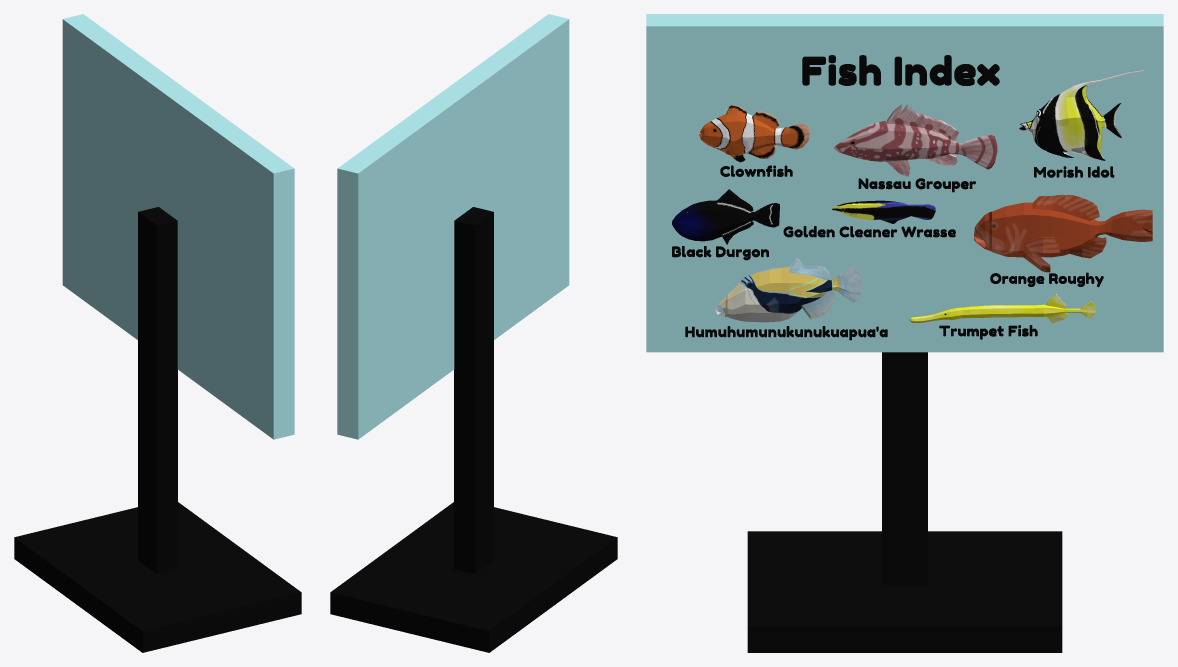
Rendered from sign2.fbx.
3 renders of one model, left to right at view 1: azimuth 30°, elevation 25°; view 2: azimuth 150°, elevation 25°; view 3: azimuth 270°, elevation 25°, orthographic. The views are drawn at different scales.
Parts seen in each view (by area): view 1: Cube.005; view 2: Cube.005; view 3: Cube.005, Text.006, Text.004, Text.005, Text.007, Text.009.
Boxes of the visible parts, x1,y1,x2,y2 form: Cube.005: (14, 14, 301, 652); Cube.005: (330, 14, 617, 652); Cube.005: (646, 14, 1163, 652); Text.006: (802, 55, 999, 85); Text.004: (685, 326, 887, 340); Text.005: (783, 226, 955, 237); Text.007: (858, 178, 975, 192); Text.009: (990, 272, 1103, 287).
Size of the model in its own units: 221 by 647 by 508.
